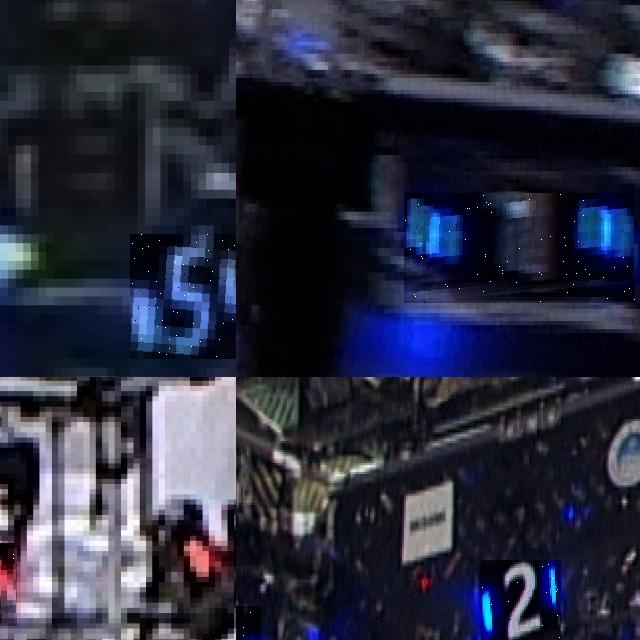B1: (404, 193, 635, 303)
B2: (481, 560, 560, 640)
B5: (129, 234, 236, 358)
